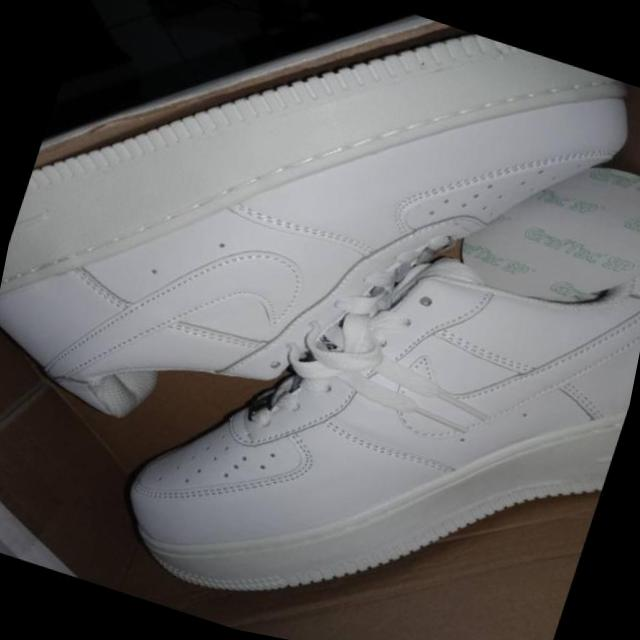nike_fake_airforce: (0, 0, 640, 565), (103, 117, 640, 640)
